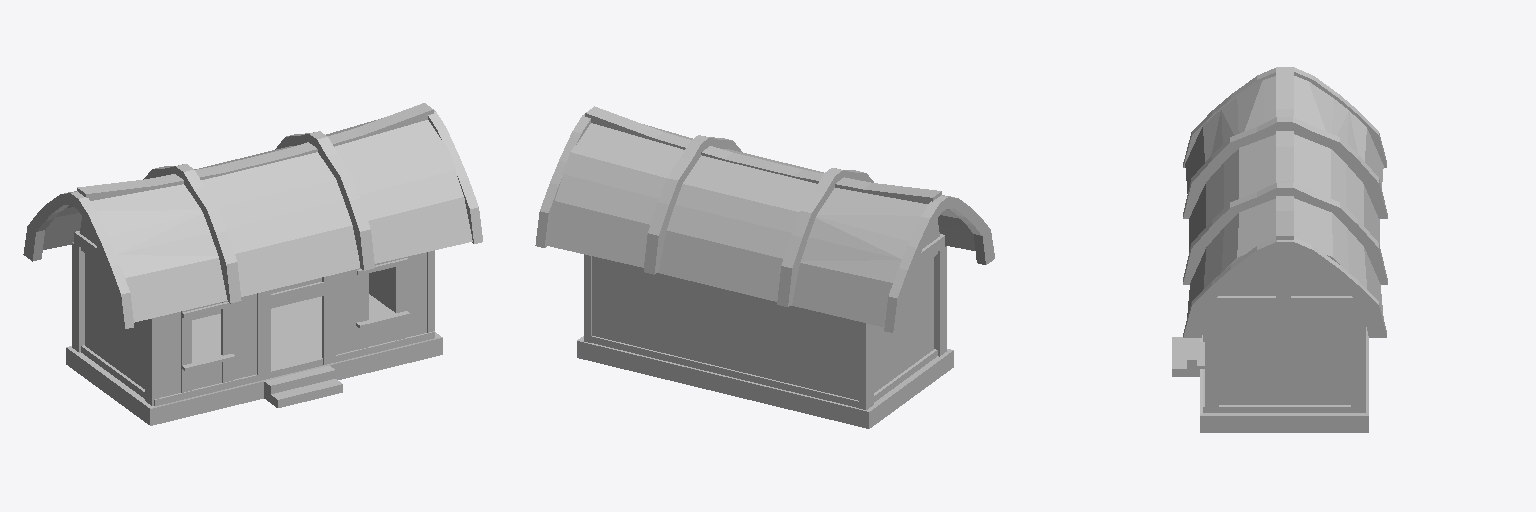
File: house.obj
3 views of the same model, side by side, from view 1: azimuth 30°, elevation 25°; view 2: azimuth 150°, elevation 25°; view 3: azimuth 270°, elevation 25° (orthographic).
Parts seen in each view (by area): view 1: house_Cube.026; view 2: house_Cube.026; view 3: house_Cube.026.
Part boxes in pixels (x1,y1,x2,y2): house_Cube.026: (23,103,482,425); house_Cube.026: (535,106,994,428); house_Cube.026: (1172,67,1387,432).
Size of the model in its own units: 15.75 by 8.85 by 8.21.